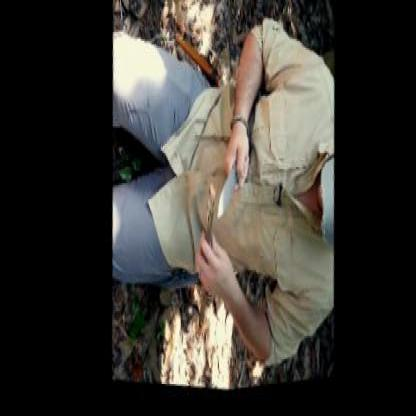knife: (206, 125, 254, 232)
